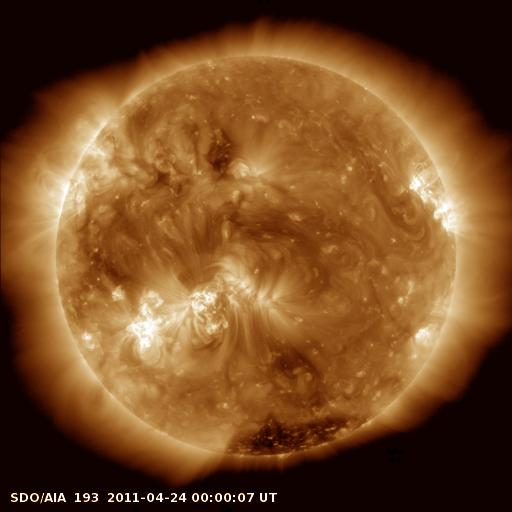coronal_hole: (229, 417, 362, 454)
